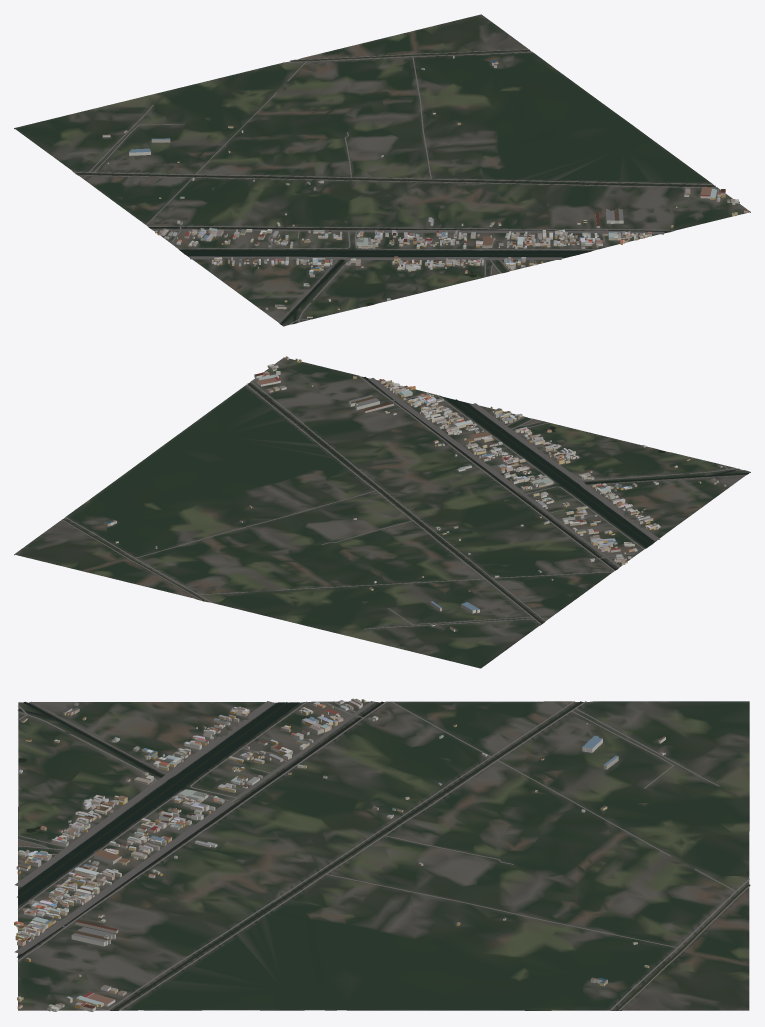
3 renders of one model, top to bottom at view 1: azimuth 30°, elevation 25°; view 2: azimuth 150°, elevation 25°; view 3: azimuth 270°, elevation 25°, orthographic. The views are drawn at different scales.
Visible parts, largest first — view 1: ground, buildings, roads, water; view 2: ground, buildings, roads, water; view 3: ground, buildings, roads, water.
Part boxes in pixels (x1,y1,x2,y2): ground: (14,14,750,326); buildings: (102,56,748,318); roads: (74,49,718,324); water: (75,49,715,324); ground: (14,357,750,668); buildings: (104,356,726,631); roads: (62,375,745,629); water: (62,377,748,623); ground: (18,701,749,1010); buildings: (14,698,665,1011); roads: (14,701,749,1010); water: (17,701,750,1010).
Bounding box in the file's own units: 1411 × 15.72 × 1411.
